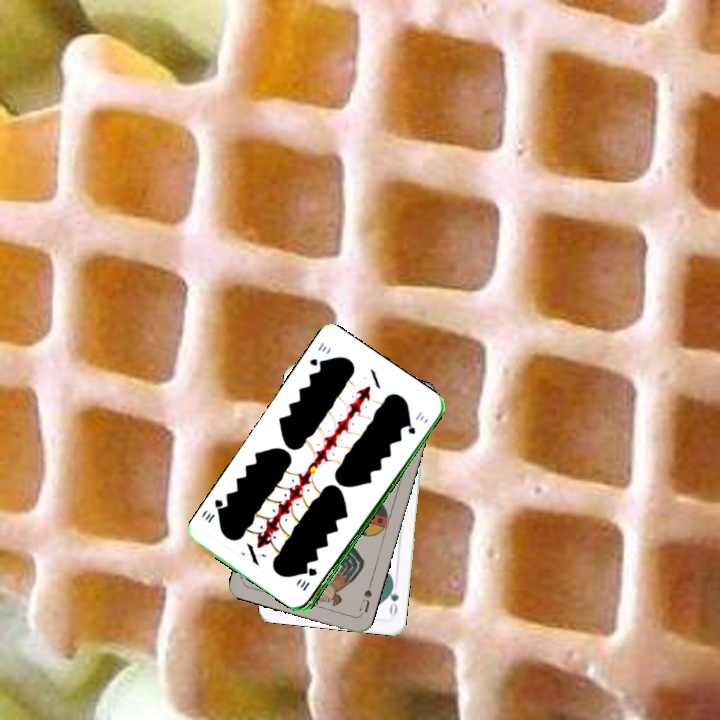G10: (305, 339, 328, 370), (299, 564, 320, 594)
GO: (384, 579, 402, 619)
SU: (355, 578, 375, 615)
